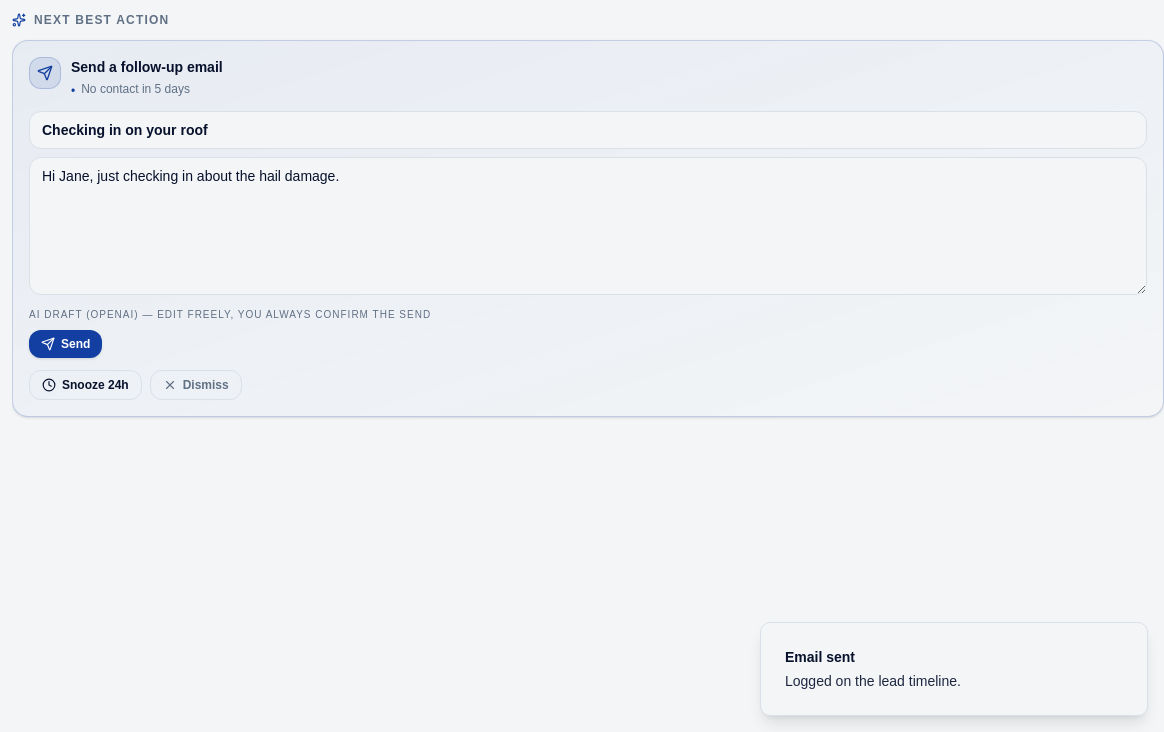
Test: NextBestActionCard › snooze records feedback with snoozeHours, refetches, and hides the card once "none" comes back
Expected: the element with test id "next-best-action-card" is shown, [12,12,1163,417]
Click the button "Snooze 24h" at (85, 385), box [29,370,142,400]
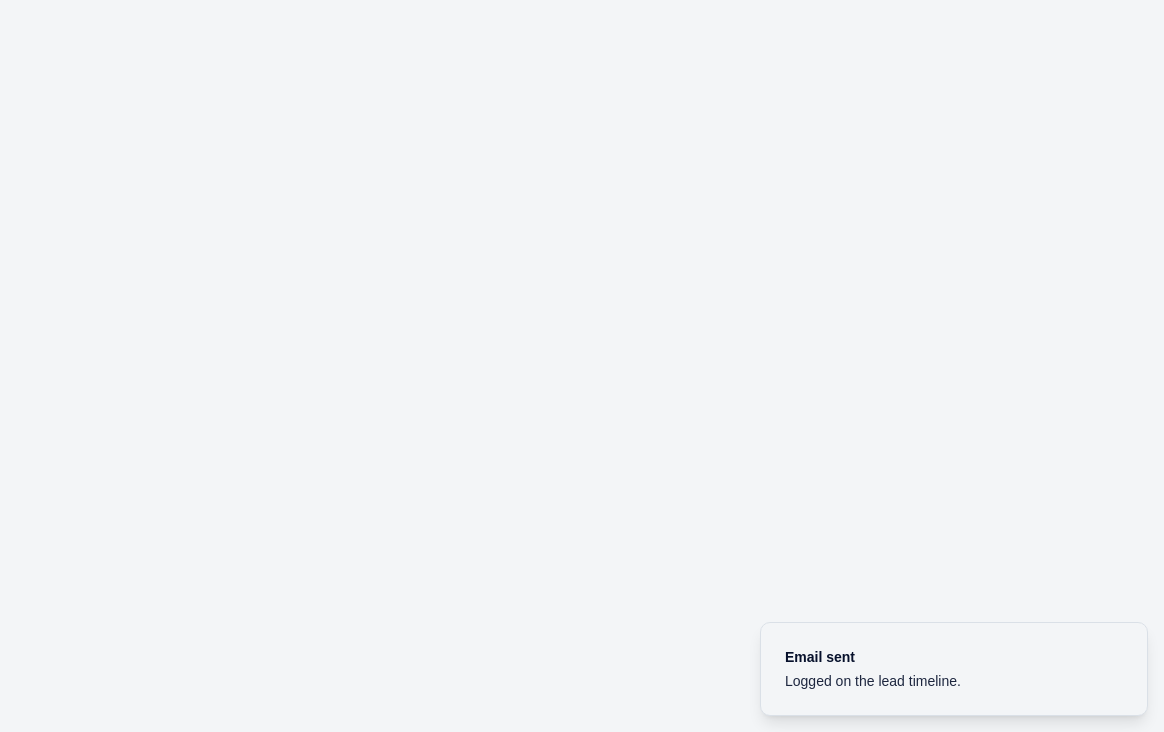
Expected: the element with test id "next-best-action-card" is gone
